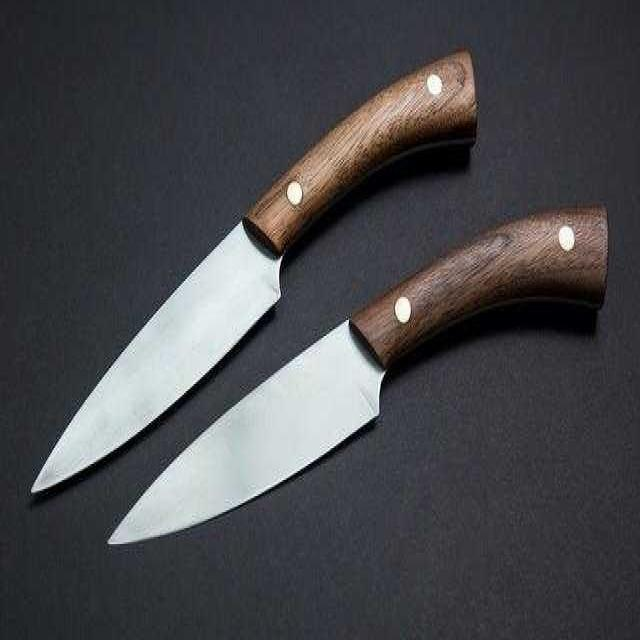knife: (23, 57, 615, 557)
